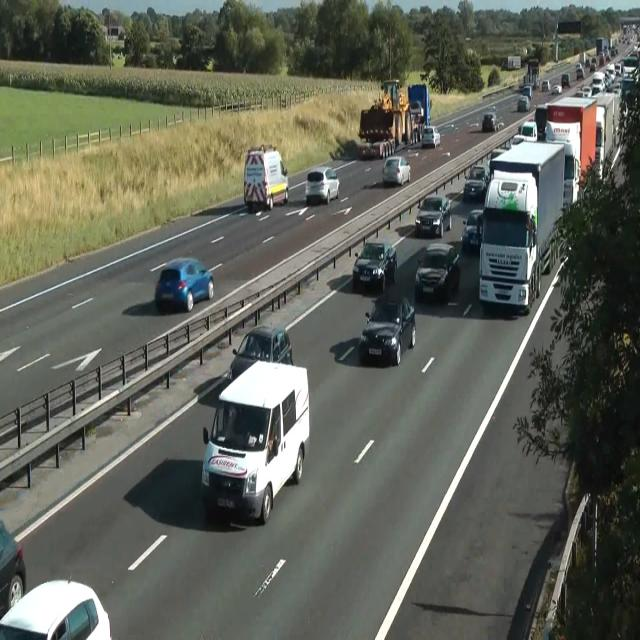bus: (0, 574, 111, 639), (358, 294, 416, 366), (227, 324, 293, 383), (154, 256, 214, 312), (0, 519, 26, 621), (305, 167, 339, 204), (463, 163, 489, 201), (462, 209, 484, 252), (383, 154, 411, 186), (489, 146, 507, 178), (421, 126, 441, 148), (409, 100, 423, 126), (482, 112, 498, 132), (517, 95, 530, 112), (576, 84, 592, 97), (510, 134, 526, 147), (521, 84, 532, 100), (576, 63, 584, 80), (542, 79, 550, 92), (551, 84, 561, 94), (589, 57, 596, 71)
jeep: (200, 358, 310, 524), (243, 144, 289, 211), (414, 242, 460, 301), (352, 239, 397, 291), (414, 193, 452, 237), (518, 119, 538, 141)
minibus: (479, 140, 565, 314), (544, 91, 620, 201), (358, 79, 431, 147), (594, 91, 620, 182), (408, 83, 431, 126), (501, 55, 521, 70)
